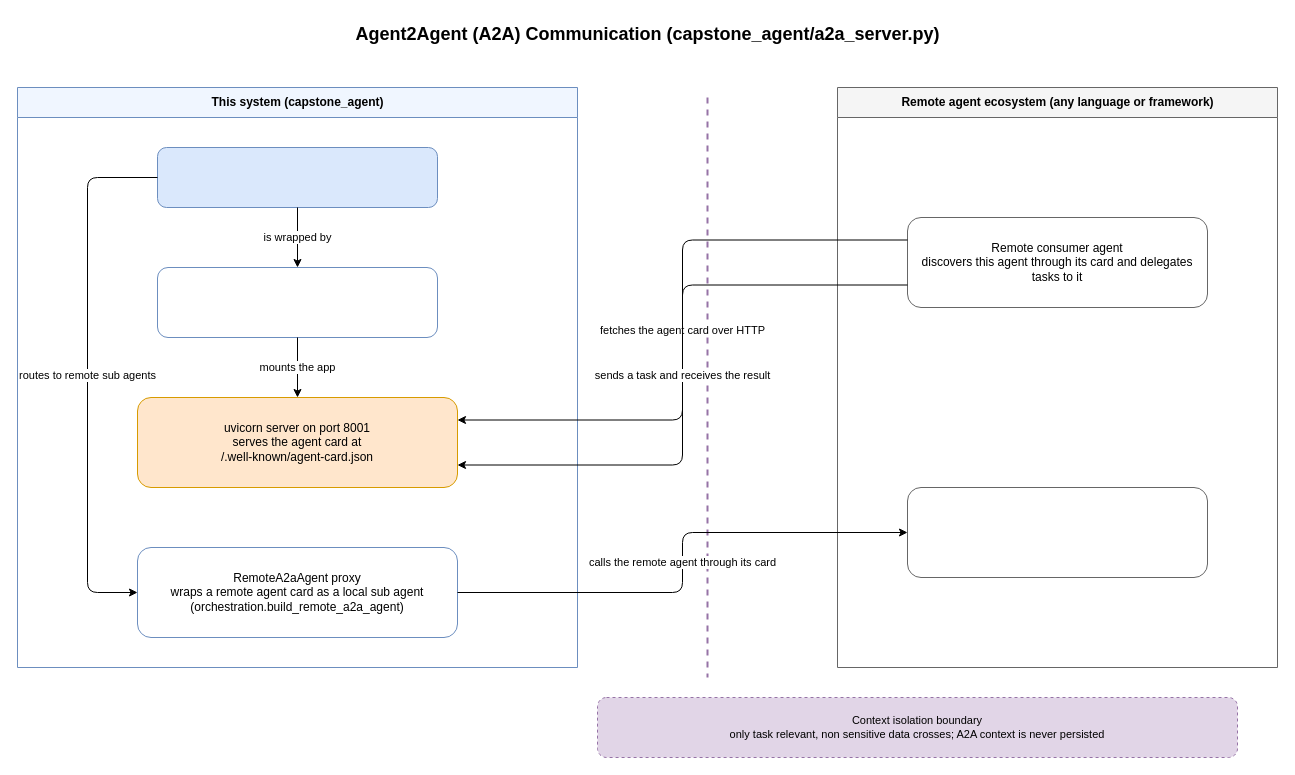
Some shapes in this 1295 by 775 pixel diagram are drawn without their labels. The centre of each missing label's shape, as x and y in pixels:
Remote provider agent publishes its own agent card that this system can consume: the point at 1057,532
root_agent clinical_orchestrator: the point at 297,177
to_a2a() builds a Starlette ASGI app around the root agent: the point at 297,302
